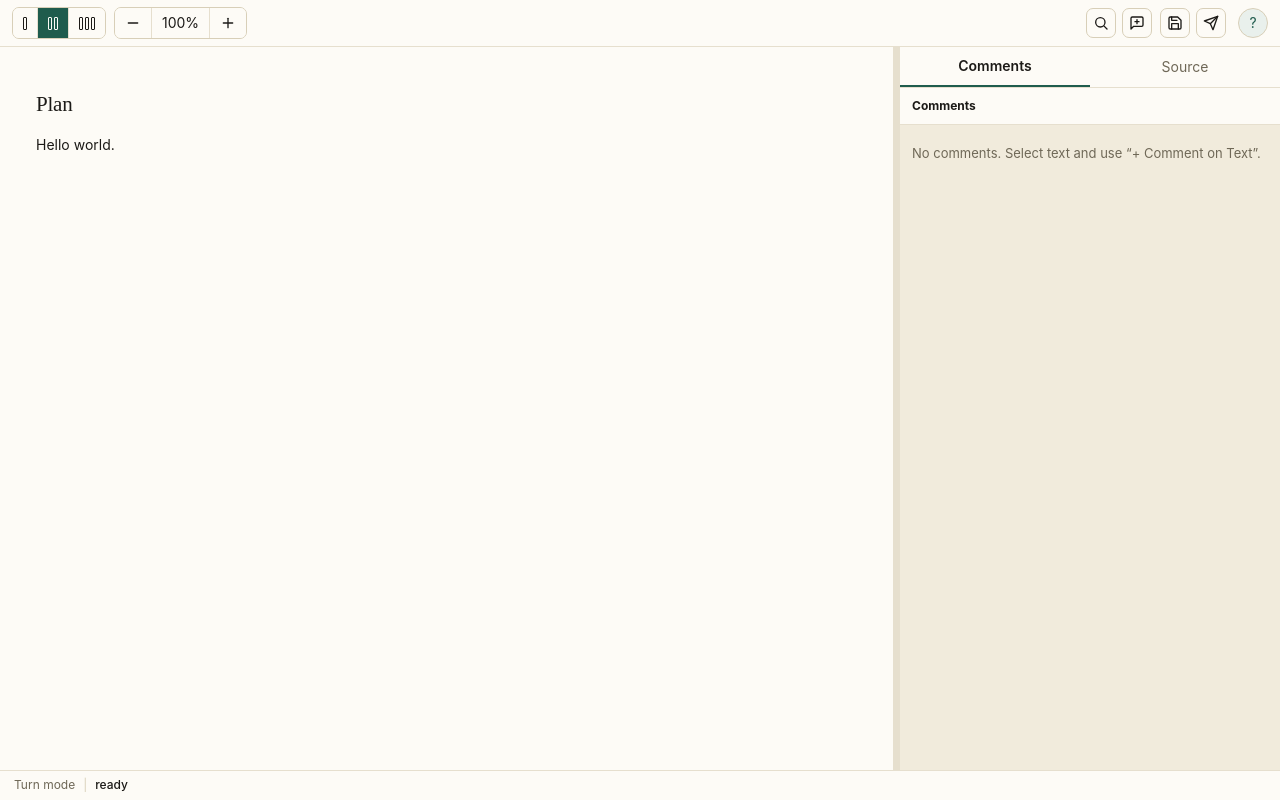
Test case: new-doc actions › hides the Browse button when the host has no pickPath (e.g. web)
The width and height of the screenshot is (1280, 800).
Right-click the element with class "ap-rendered" at (54, 104), box [36,92,115,153]
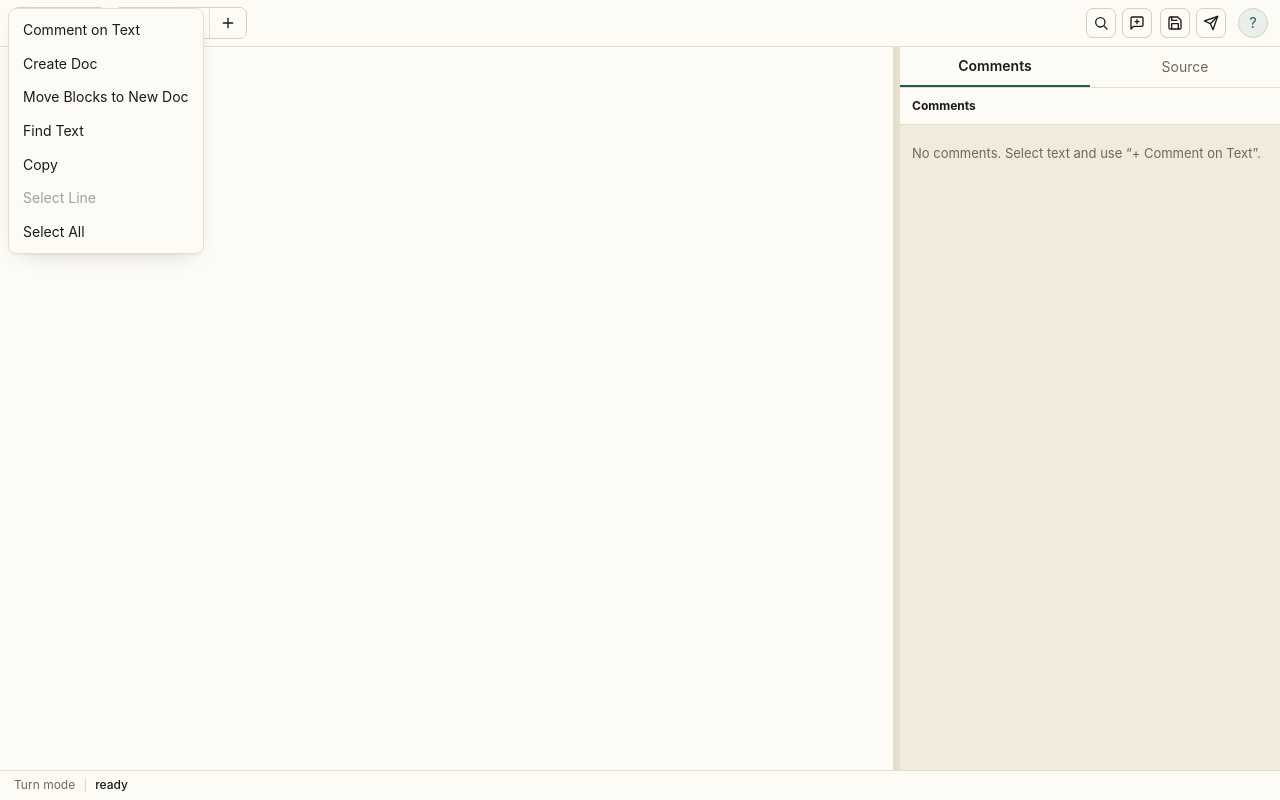
Click the menu item "Create Doc" at (106, 64), box [13,47,198,80]
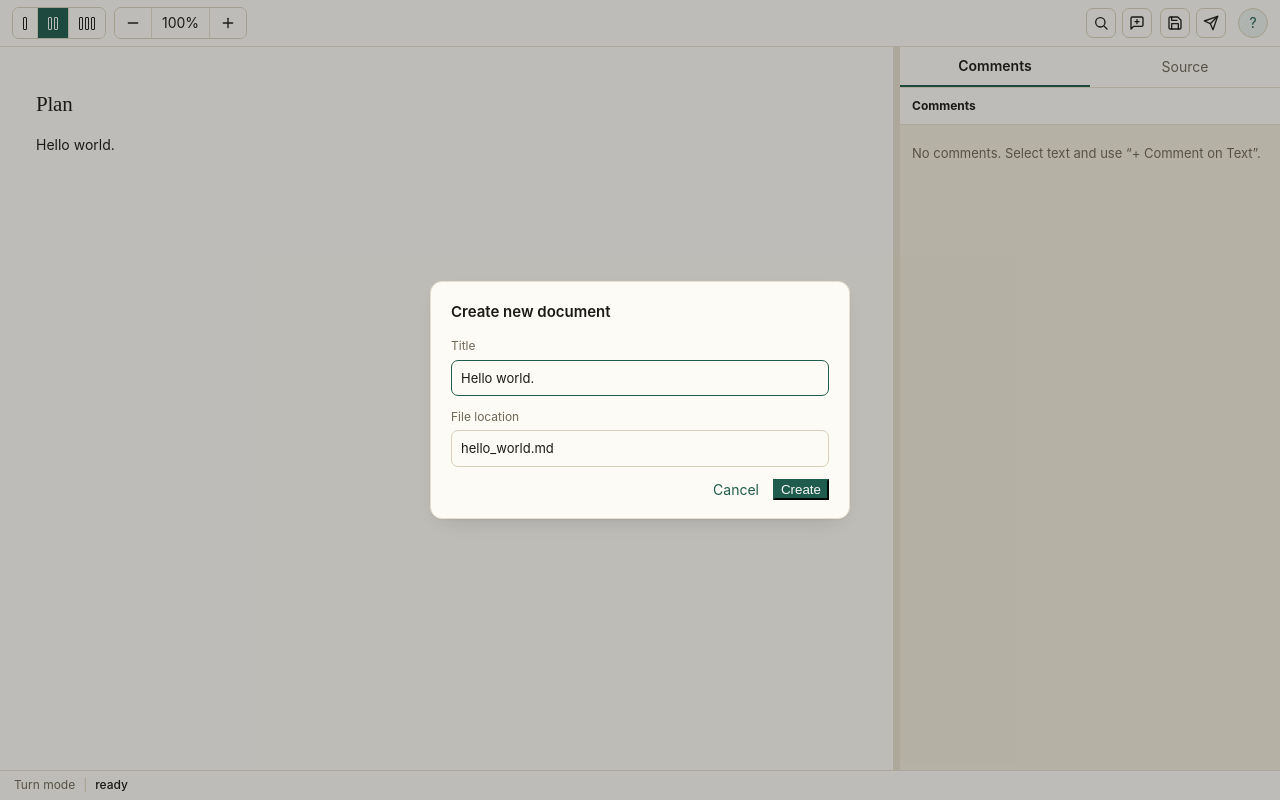
Check: the button "Create" is shown, box [773,479,829,500]
